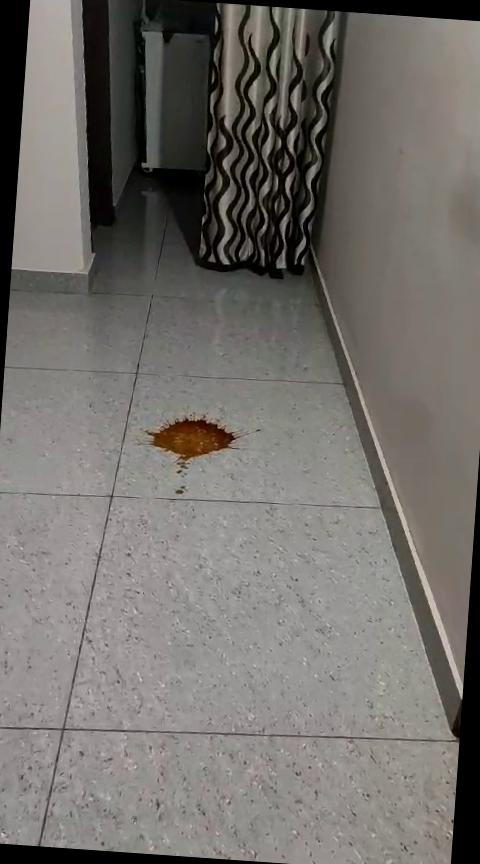dirty_floor: (120, 398, 263, 507)
